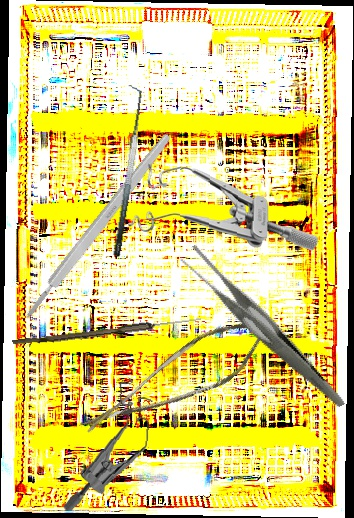Dressing Forceps: (176, 216, 346, 442)
Micro Scissor: (78, 285, 282, 475)
Scalpel Handle: (20, 129, 175, 323)
Spatula Surgical: (98, 84, 151, 258)
Speculum: (125, 161, 322, 252), (61, 372, 157, 518)
Surgical Spoon: (12, 313, 202, 350)
